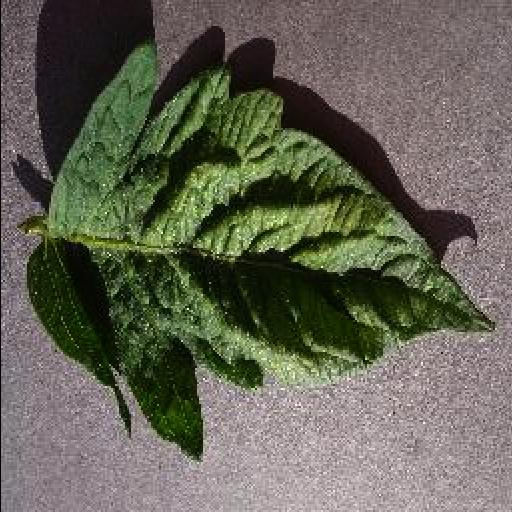disease_tomato: (25, 40, 499, 460)
